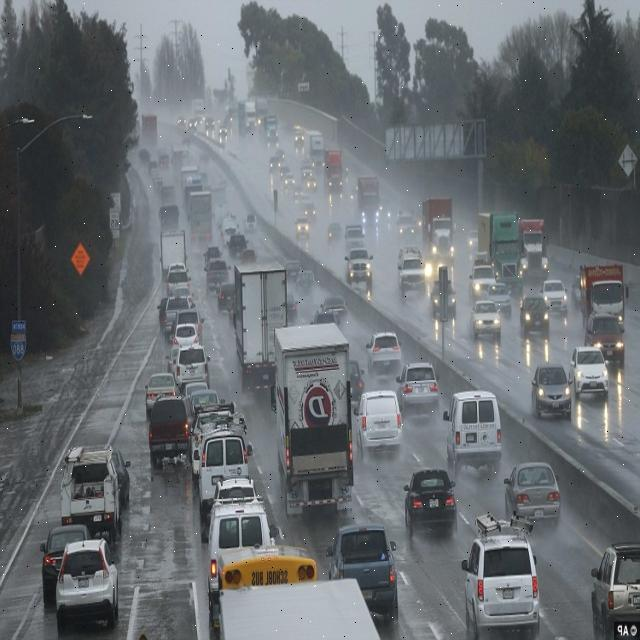Bus: (217, 546, 317, 640)
Car: (461, 511, 541, 638), (327, 520, 400, 624), (205, 481, 263, 611), (54, 534, 119, 632), (62, 438, 127, 525), (443, 385, 503, 474), (590, 539, 640, 638), (504, 461, 561, 530), (403, 466, 458, 537), (197, 436, 248, 508), (38, 523, 82, 606), (355, 388, 403, 460), (147, 393, 192, 467), (530, 362, 573, 419), (396, 360, 439, 414), (584, 311, 626, 366), (570, 345, 610, 401), (367, 331, 402, 380), (143, 371, 178, 418), (395, 249, 426, 299), (468, 299, 502, 342), (519, 296, 551, 338), (468, 262, 498, 306), (345, 247, 373, 294), (171, 307, 202, 347), (431, 276, 456, 321), (540, 279, 568, 316), (485, 281, 512, 319), (317, 294, 349, 324), (181, 378, 210, 411), (205, 258, 230, 295), (347, 358, 365, 406), (156, 295, 173, 340), (168, 282, 194, 309), (295, 268, 316, 298), (217, 281, 236, 313), (344, 223, 366, 250), (395, 211, 416, 239), (364, 196, 385, 223), (203, 245, 223, 271), (228, 233, 248, 257), (298, 199, 316, 224), (284, 259, 302, 283), (294, 217, 310, 243), (571, 274, 582, 310), (284, 293, 298, 321), (300, 166, 316, 190), (157, 146, 172, 170), (223, 225, 239, 247), (467, 229, 479, 258), (281, 173, 296, 196), (269, 148, 285, 168), (150, 168, 163, 192), (327, 222, 342, 242), (293, 184, 306, 207), (240, 248, 257, 265), (383, 204, 395, 228), (473, 250, 489, 267), (300, 158, 314, 177), (244, 212, 257, 232), (198, 171, 210, 189), (188, 117, 201, 132), (138, 148, 150, 164), (194, 112, 205, 129), (280, 163, 292, 178), (218, 126, 228, 144), (204, 117, 214, 135), (199, 147, 210, 163), (149, 159, 159, 176), (342, 163, 349, 185), (293, 124, 304, 137), (181, 133, 191, 146), (177, 116, 187, 127)
Truck: (274, 318, 355, 520), (232, 260, 288, 402), (586, 261, 626, 314), (517, 217, 547, 281), (422, 196, 453, 255), (486, 216, 516, 273), (159, 228, 187, 282), (188, 188, 213, 243), (357, 175, 379, 213), (324, 149, 343, 189), (159, 203, 180, 237), (307, 131, 325, 164), (141, 113, 157, 145), (244, 100, 256, 131), (266, 113, 279, 141), (238, 101, 246, 136), (192, 98, 205, 118)
